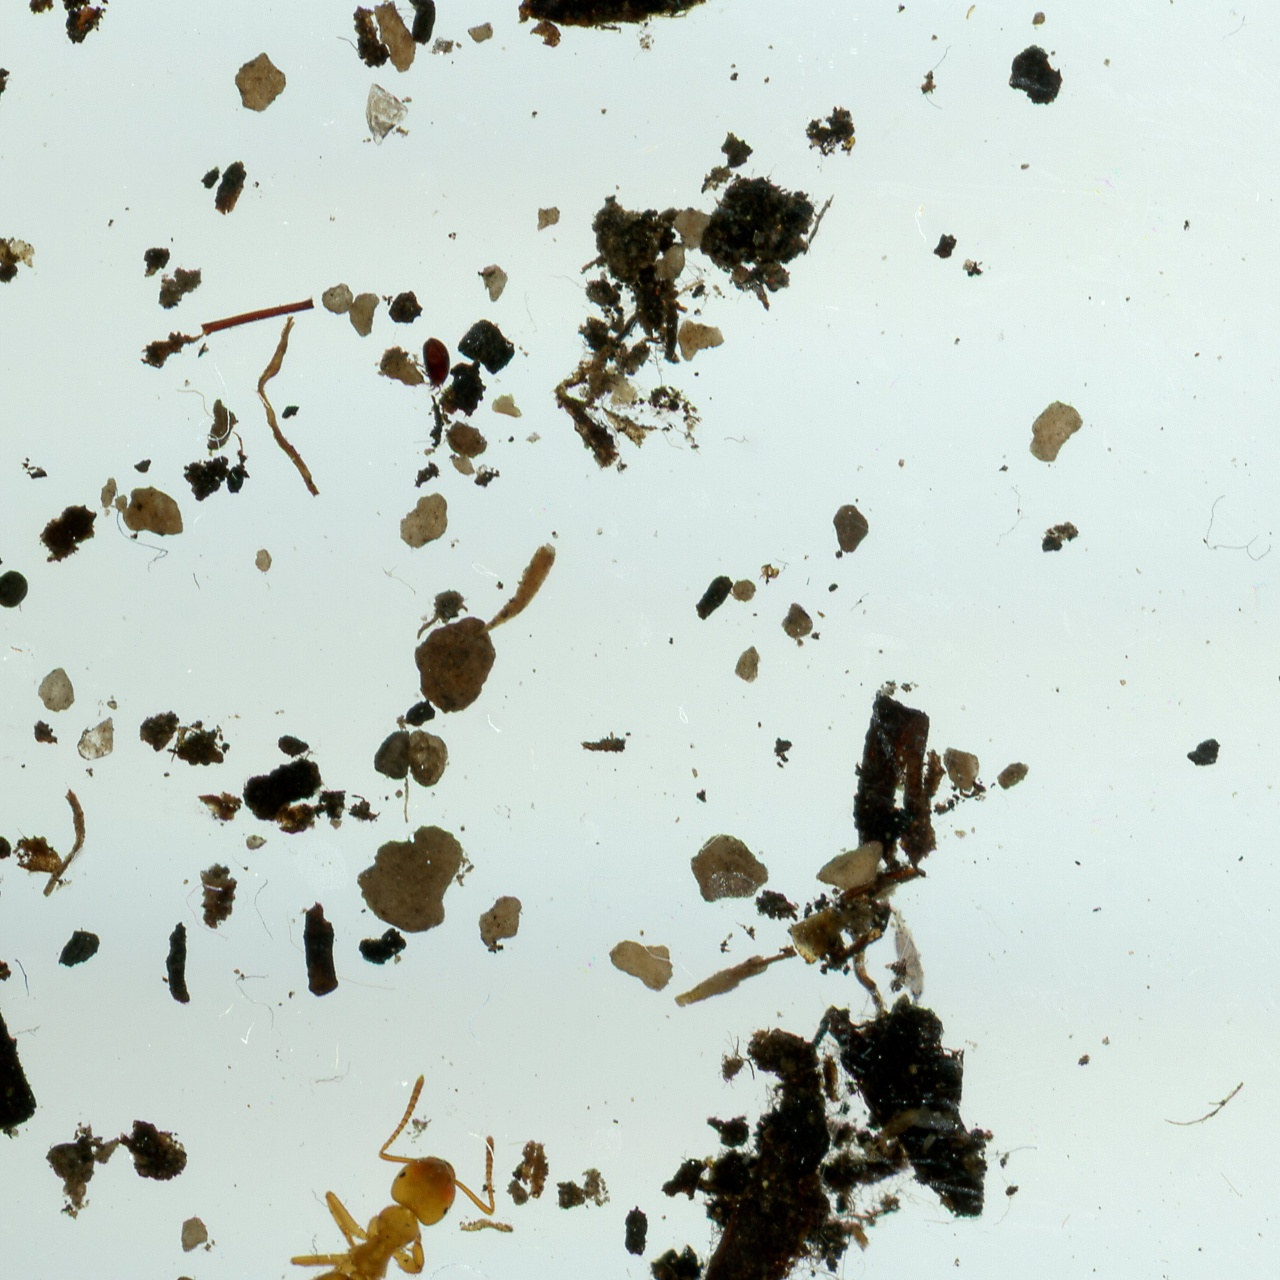arthropod: (247, 1054, 543, 1280), (881, 898, 934, 1012), (415, 334, 452, 398)
